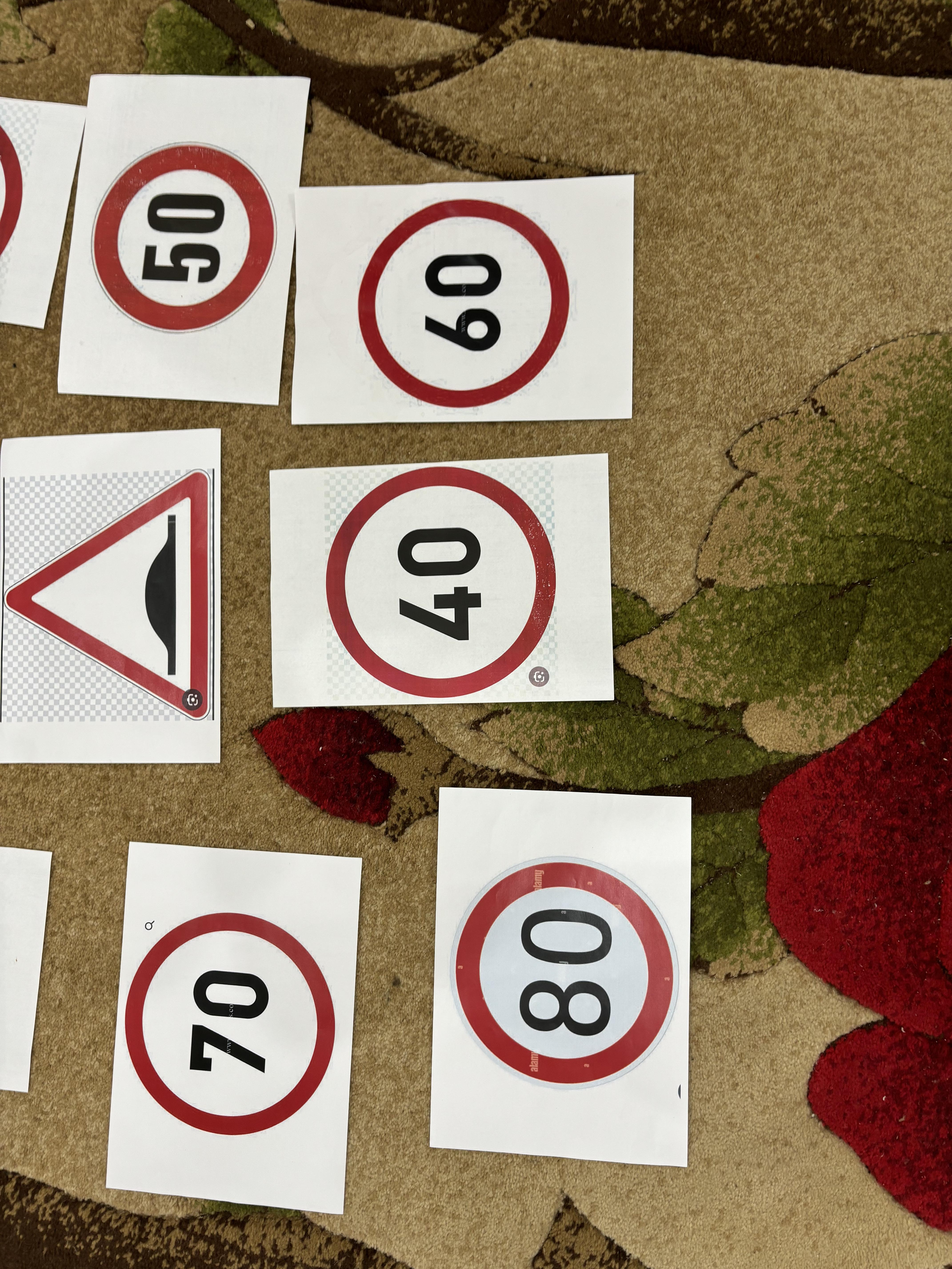40-Speed: (316, 456, 562, 698)
50-Speed: (92, 138, 283, 335)
60-Speed: (352, 192, 571, 410)
70-Speed: (109, 907, 349, 1139)
80-Speed: (447, 860, 683, 1089)
Hump: (0, 445, 234, 735)
